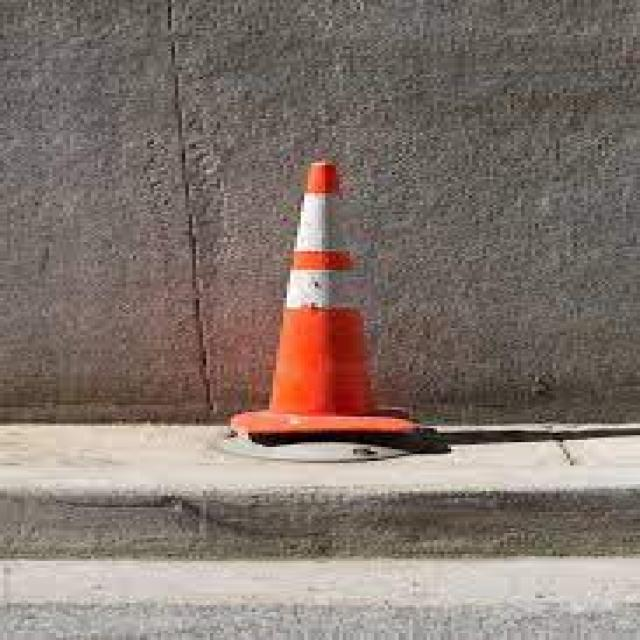Traffic Cone: (158, 84, 516, 487)
